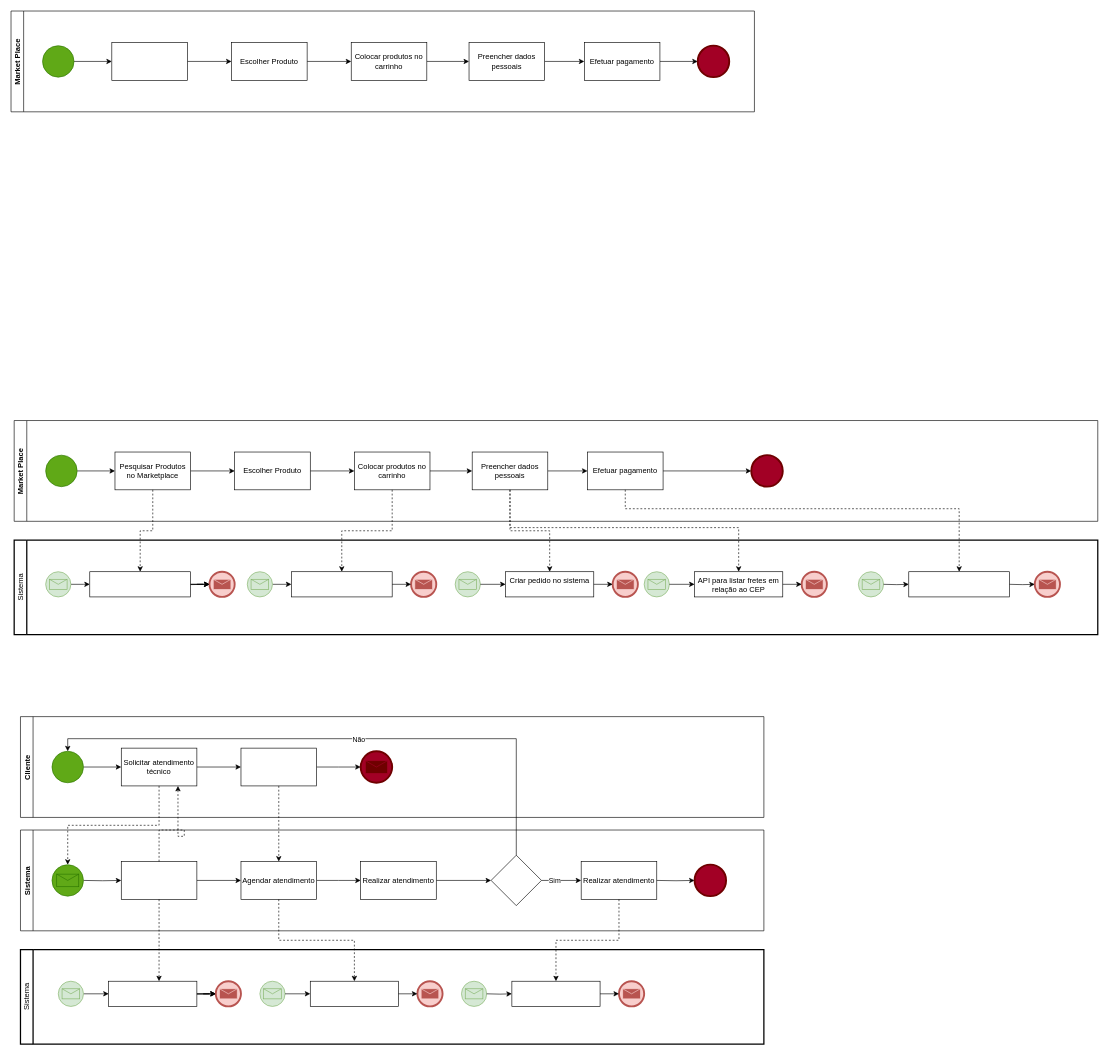
The diagram is 1109 pixels wide and 1056 high, and some of its shapes have lost their labels. The shapes that lost their labels are listed below. From the top down, each one's centre as x and y in pixels, then its label:
the point at 149,61: Realizar Compra
the point at 140,584: Realizar busca do produto desejado pelo cliente
the point at 341,584: Cria lista de produtos do pedido
the point at 959,584: API para gerar pagamento pelo Mercado Pago
the point at 278,766: Seleciona data e horário de atendimento
the point at 159,880: Verifica agenda do técnico
the point at 515,880: Problema resolvido?
the point at 152,993: listar horários disponíveis dos técnicos
the point at 354,993: Inserir atendimento na agenda do técnico
the point at 555,993: Gerar Relatório
